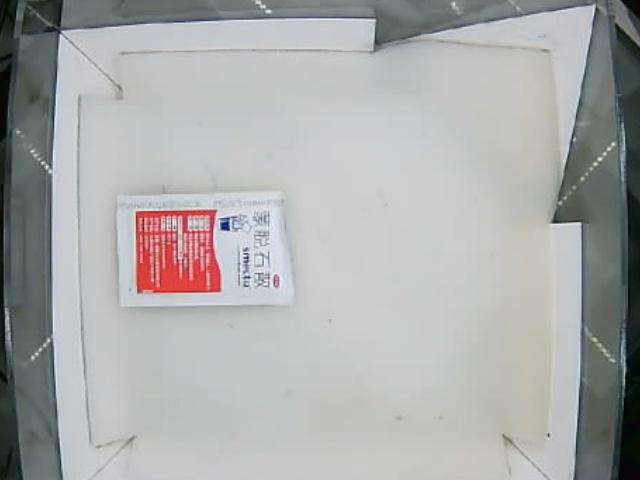Medicine: (114, 190, 295, 310)
